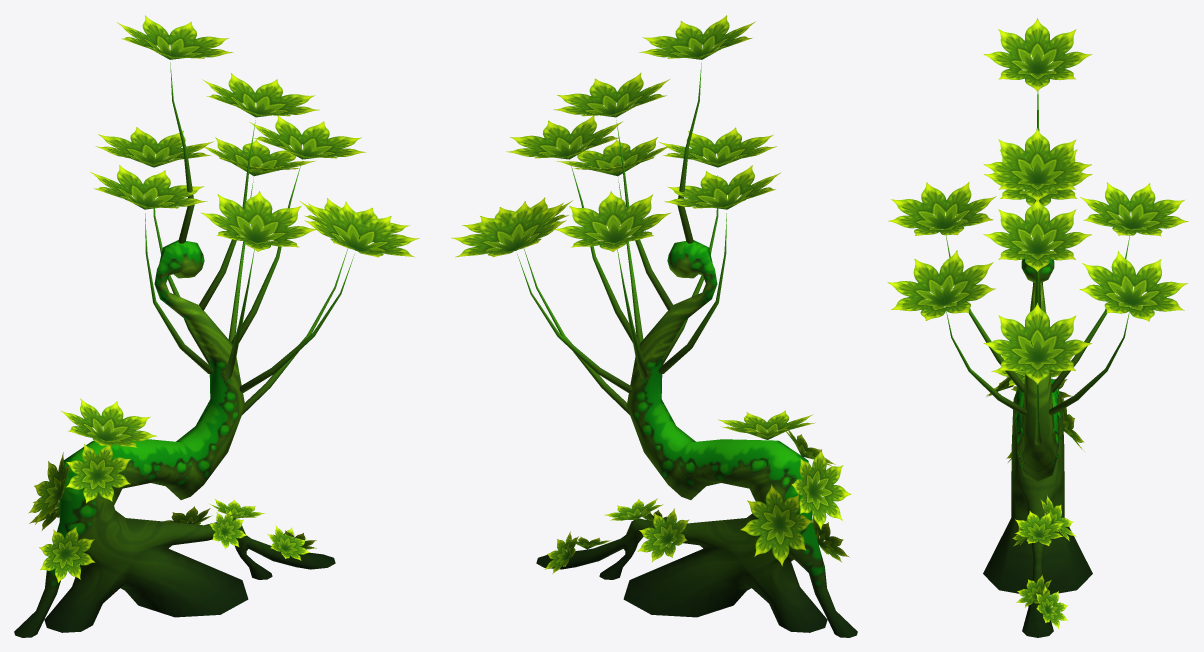
Rendered from Green_Tree_04a.FBX.
3 views of the same model, side by side, from view 1: azimuth 30°, elevation 25°; view 2: azimuth 150°, elevation 25°; view 3: azimuth 270°, elevation 25° (orthographic). The views are drawn at different scales.
Parts seen in each view (by area): view 1: Green_Tree_04a; view 2: Green_Tree_04a; view 3: Green_Tree_04a.
Part boxes in pixels (<box>): Green_Tree_04a: <box>14,15,419,637</box>; Green_Tree_04a: <box>451,15,857,637</box>; Green_Tree_04a: <box>887,18,1188,637</box>.
Size of the model in its own units: 322 by 442 by 231.
